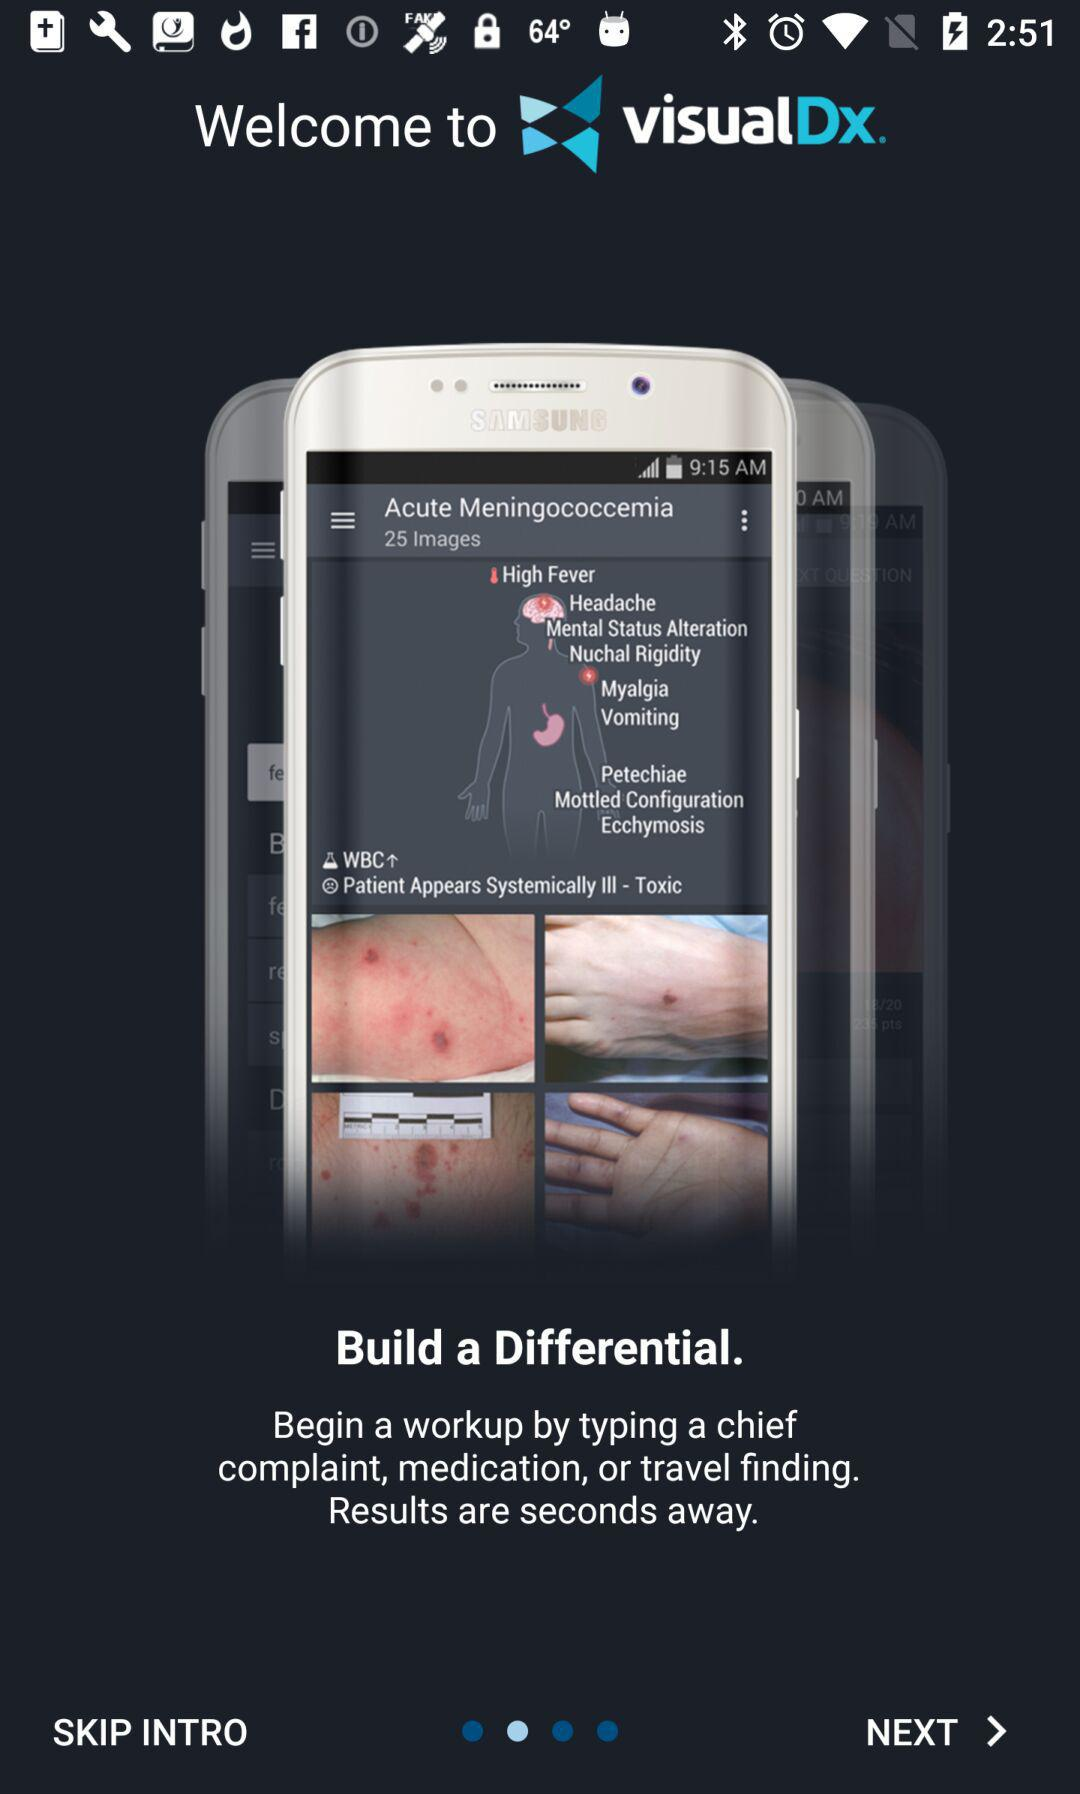Icon: (985, 1715, 1008, 1748)
Image: (200, 342, 951, 1292), (519, 74, 890, 176)
PageIndicator: (460, 1718, 621, 1744)
Text: (217, 1408, 860, 1533), (337, 1326, 744, 1367), (193, 103, 498, 152), (53, 1717, 249, 1748), (867, 1717, 960, 1747)
UpperTaskBar: (1, 1, 1080, 64)
